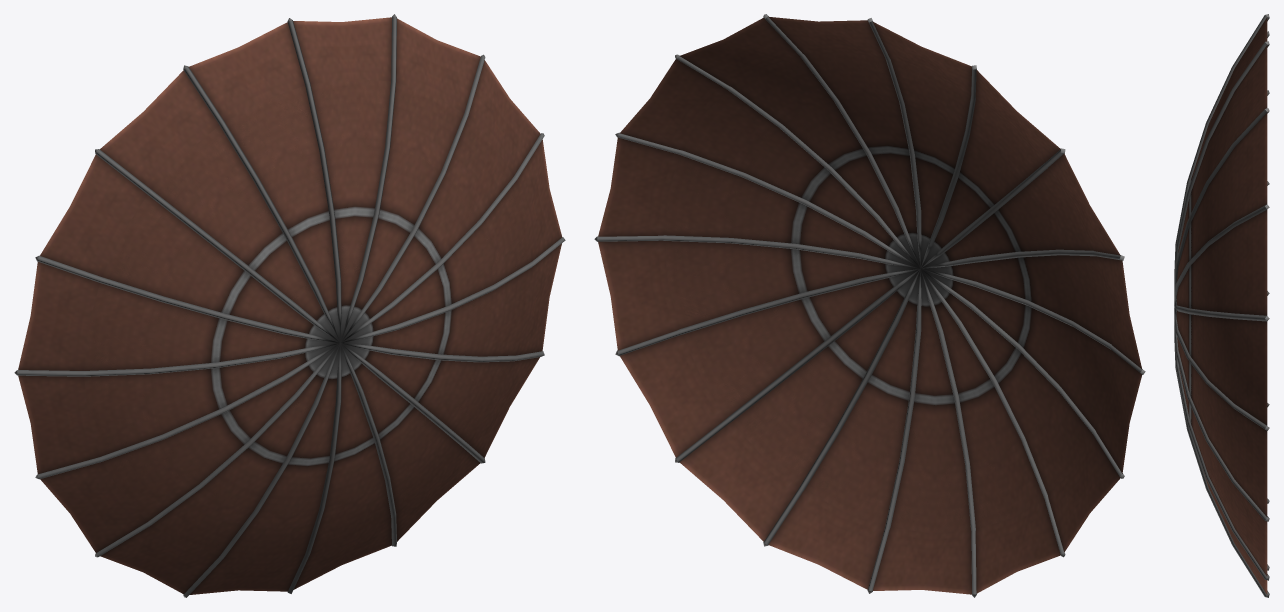
File: 1mv_high_gain_antenna_srf_1.obj
3 renders of one model, left to right at view 1: azimuth 30°, elevation 25°; view 2: azimuth 150°, elevation 25°; view 3: azimuth 270°, elevation 25°, orthographic. The views are drawn at different scales.
Parts seen in each view (by area): view 1: antenna1; view 2: antenna1; view 3: antenna1.
Boxes of the visible parts, bbox=[...] form: antenna1: bbox=[14, 14, 565, 597]; antenna1: bbox=[594, 14, 1145, 597]; antenna1: bbox=[1174, 14, 1269, 597].
Size of the model in its own units: 1.26 by 1.26 by 0.2058.
Materials: 1 (1 with a texture image).
